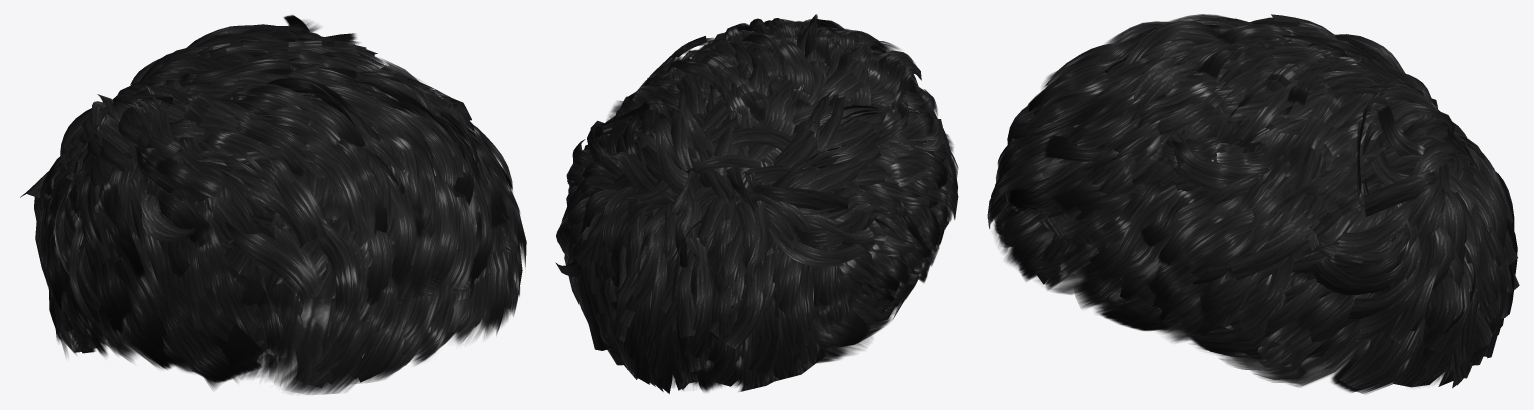
Rendered from Diamond_Straight_011.glb.
3 views of the same model, side by side, from view 1: azimuth 30°, elevation 25°; view 2: azimuth 150°, elevation 25°; view 3: azimuth 270°, elevation 25° (orthographic). The views are drawn at different scales.
Visible parts, largest first — view 1: diamond straight 01 fringe; view 2: diamond straight 01 fringe; view 3: diamond straight 01 fringe.
Boxes of the visible parts, bbox=[...] form: diamond straight 01 fringe: bbox=[20, 15, 526, 394]; diamond straight 01 fringe: bbox=[555, 14, 958, 393]; diamond straight 01 fringe: bbox=[987, 14, 1519, 394].
Size of the model in its own units: 0.2023 by 0.1694 by 0.2463.
1 material, 1 textured.
